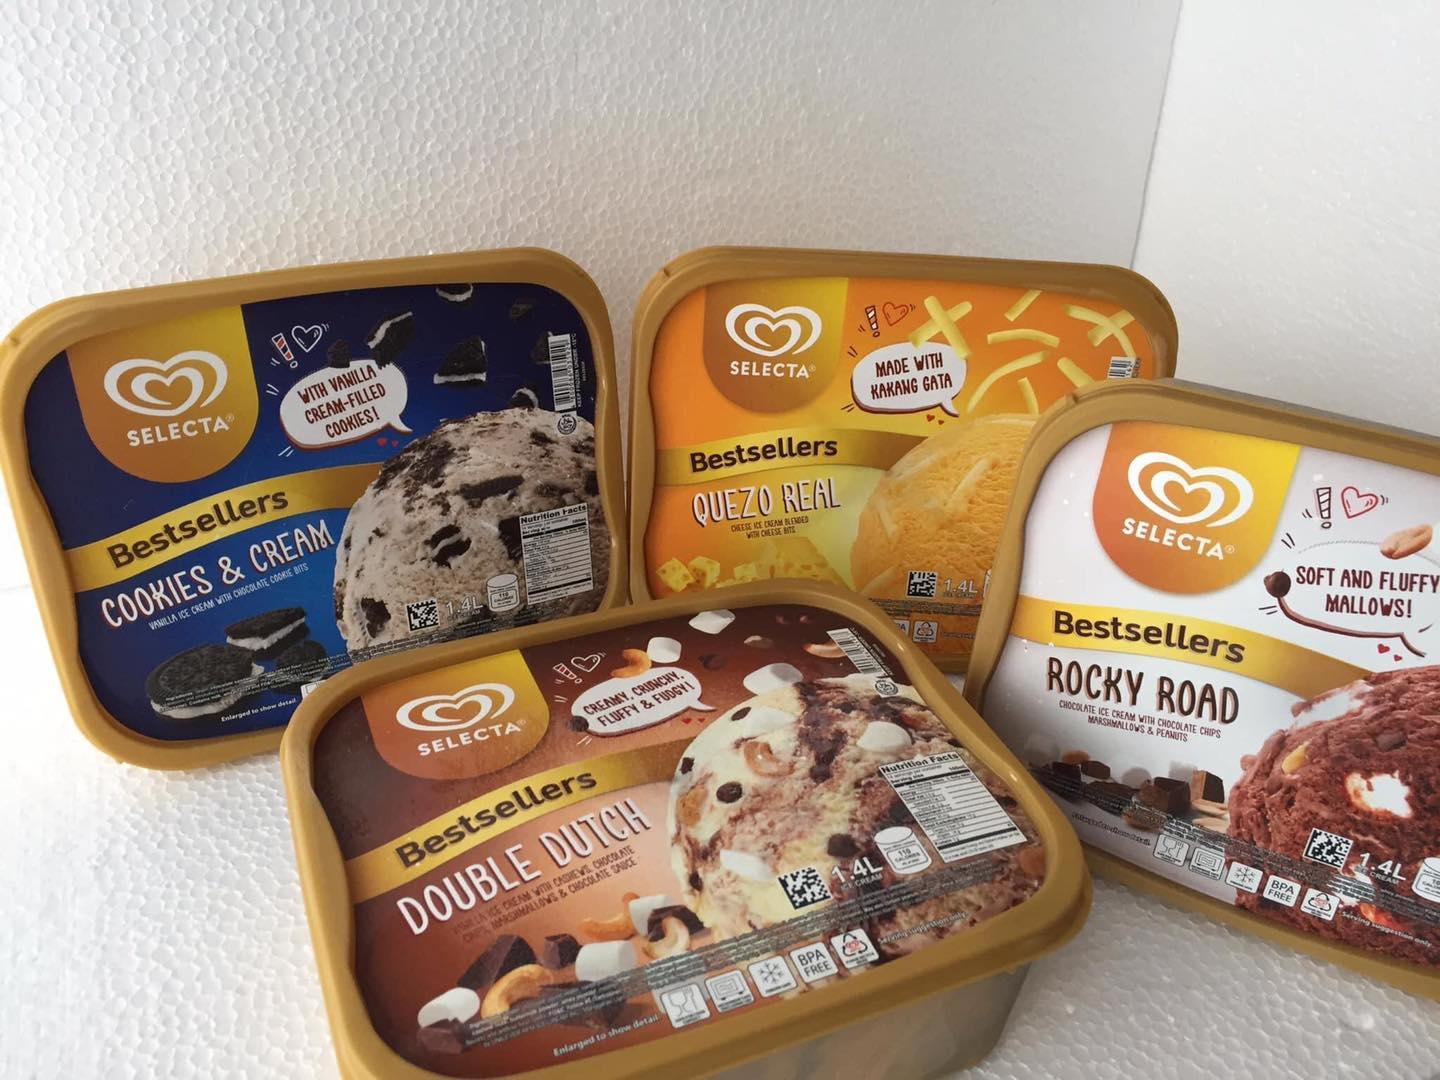plastic: (283, 587, 1089, 1079), (0, 250, 622, 765), (969, 381, 1439, 997), (636, 248, 1176, 597)
